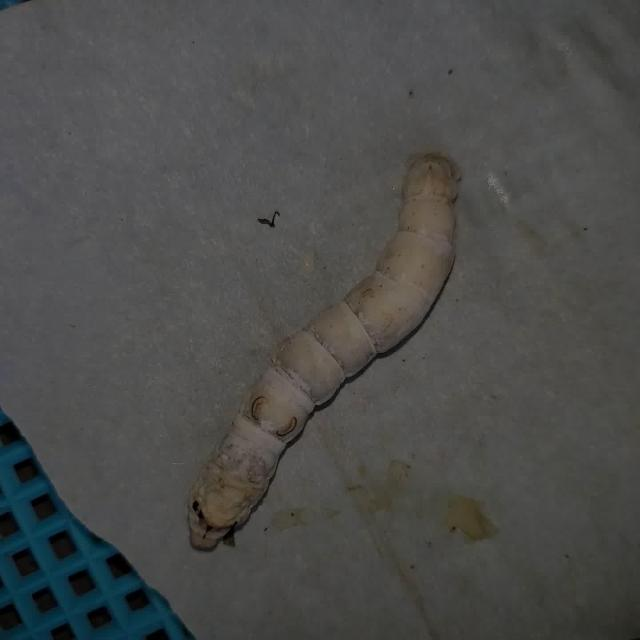Grasserie: (172, 133, 473, 564)
